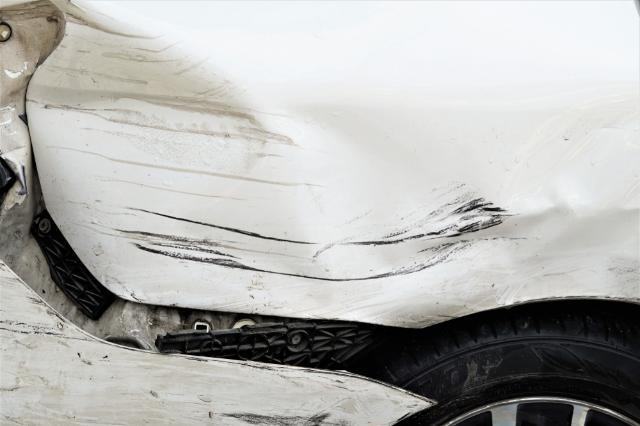dent: (33, 0, 640, 310)
scratch: (0, 259, 438, 426), (74, 126, 380, 286)
